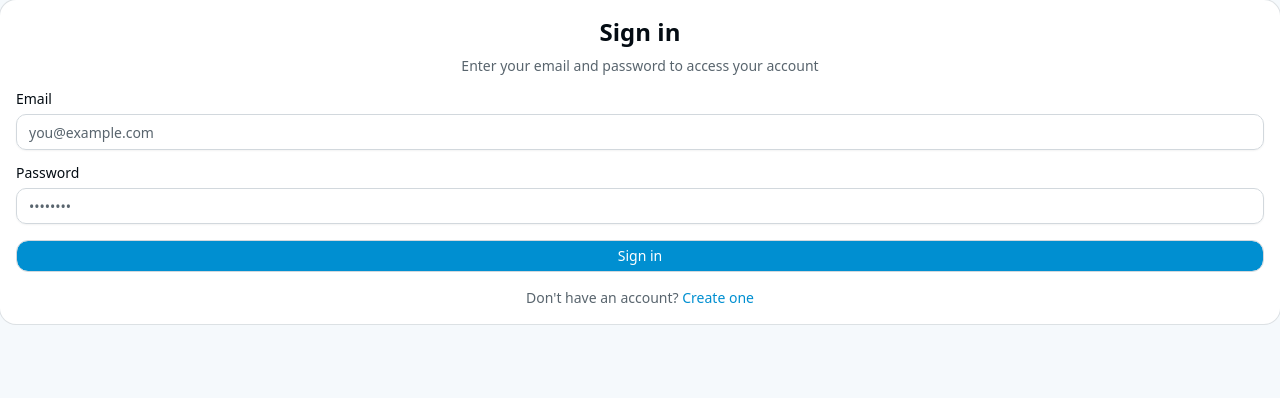
Scenario: LoginForm › shows validation errors when submitting empty form
This screenshot has width=1280, height=398.
Step 1. Click the button "Sign in" → (640, 256), box [16, 240, 1264, 272]
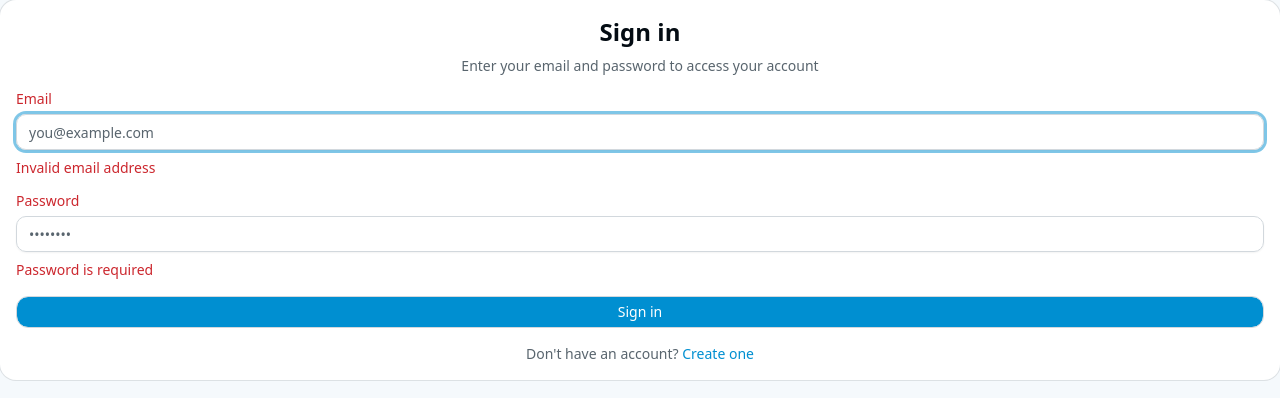
Expected: the text "Invalid email address" is shown, [16, 158, 155, 177]
